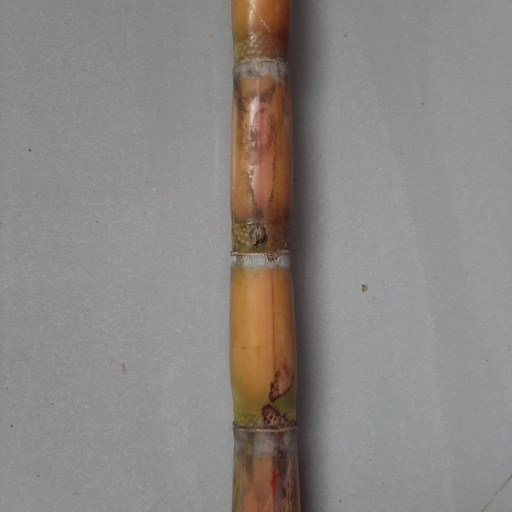Bud: (246, 223, 266, 250)
